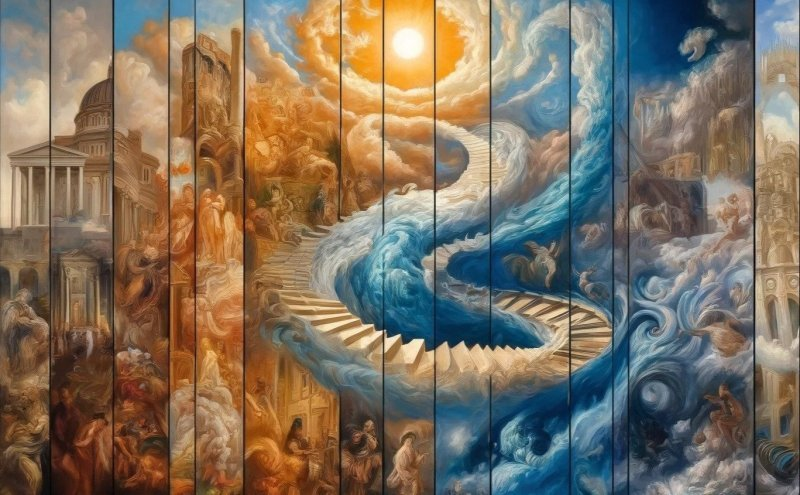Classic Architecture: (1, 1, 114, 491)
Collage: (2, 2, 796, 490)
Stairs: (366, 117, 602, 379)
